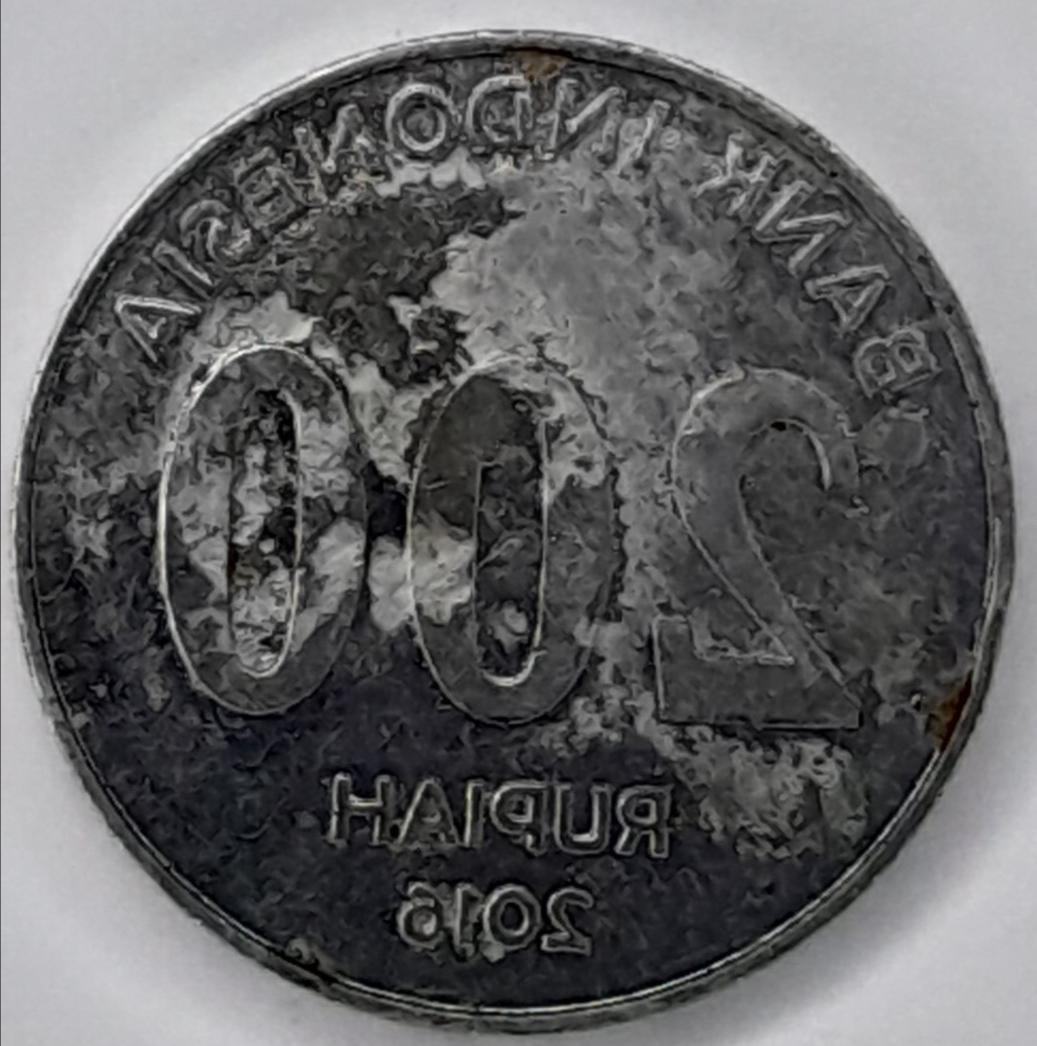coin_200_e2016: (0, 18, 1037, 1046)
